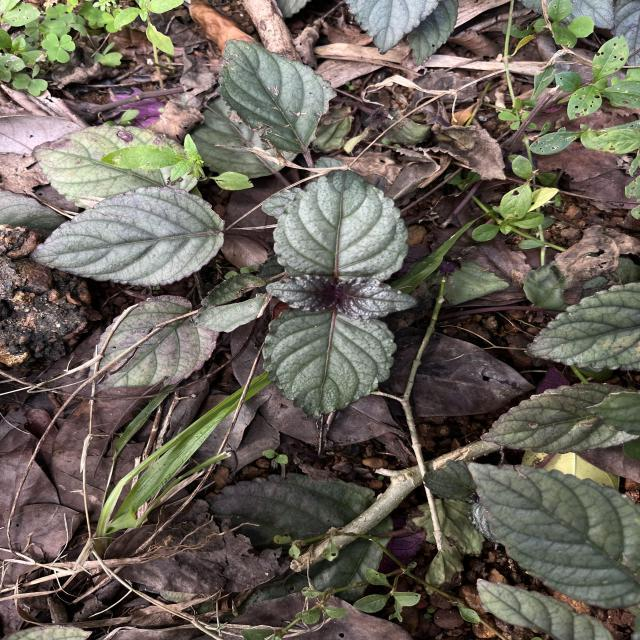Hemigraphis colorata: (464, 460, 640, 612), (28, 185, 227, 288), (259, 308, 399, 422), (270, 168, 410, 281), (214, 37, 339, 155), (476, 380, 638, 456), (521, 279, 640, 373), (334, 275, 420, 321), (264, 273, 336, 314)
